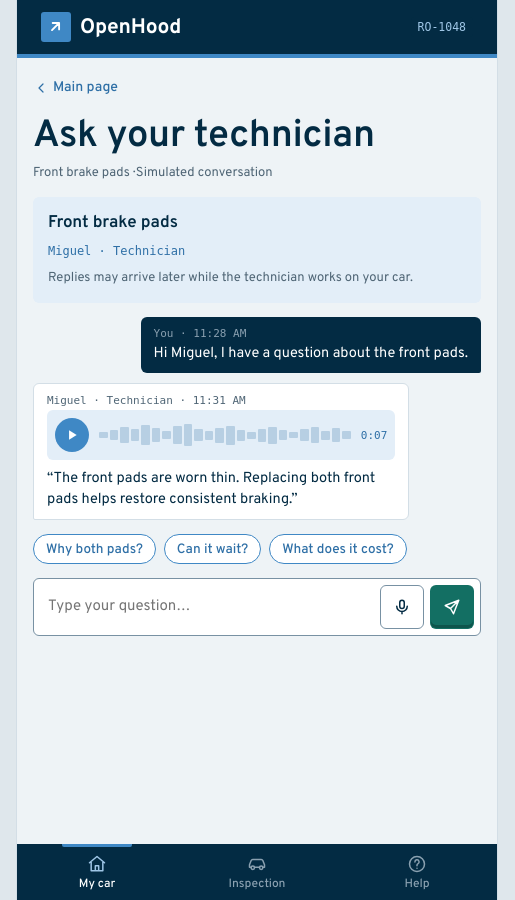
typed question is sent and the box clears
The image size is (515, 900).
Type "Is it safe to drive?" into the field labelled "your question" at (210, 607), box [46,595,374,618]
Then press Enter
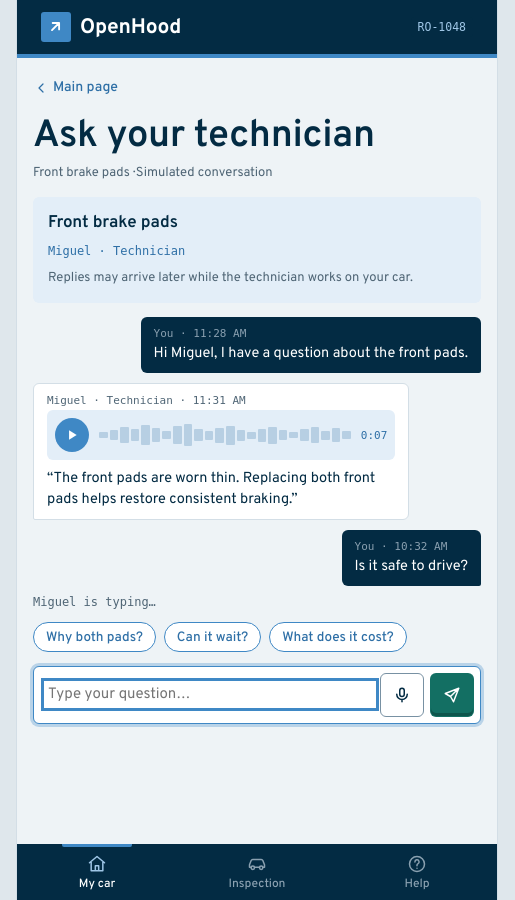
Check: the field labelled "your question" is empty, box [46,683,374,706]
Check: the text "Is it safe to drive?" is shown, box [355,557,468,576]
